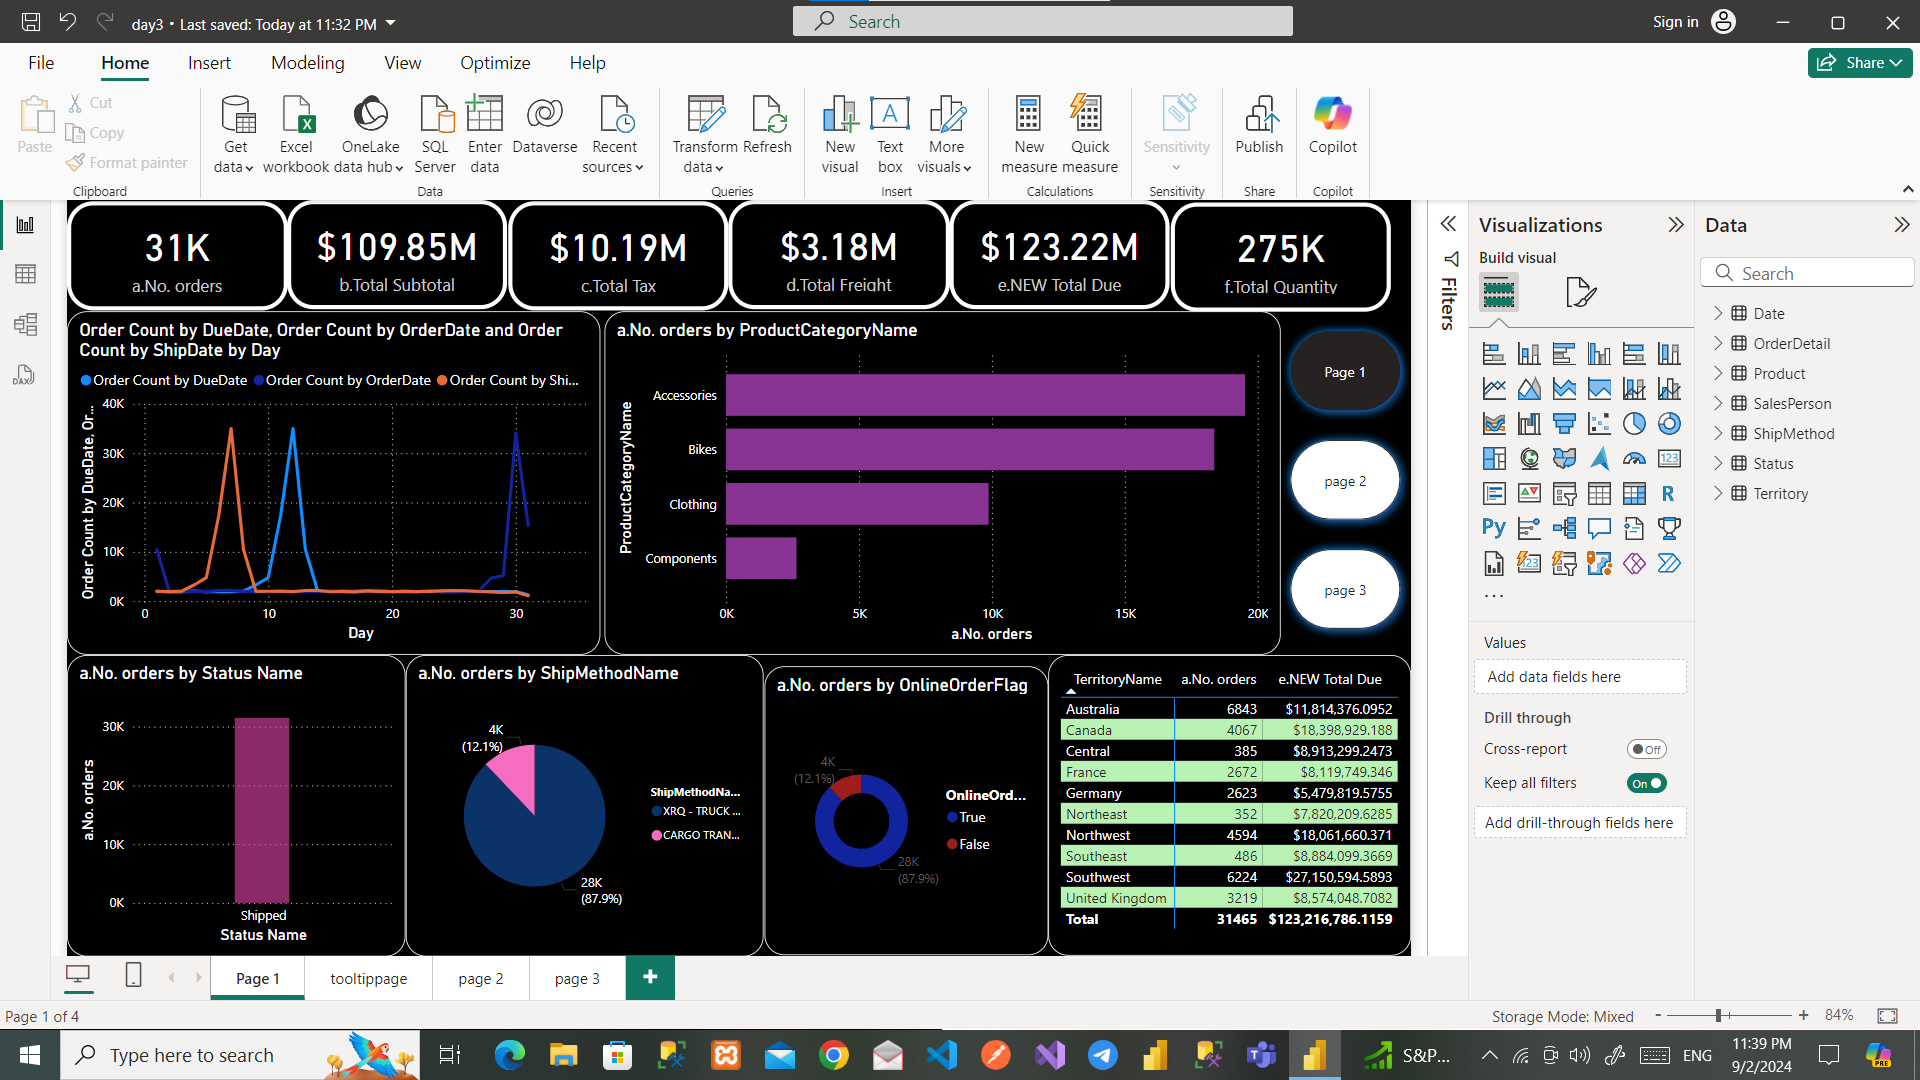

This screenshot's page, from the dashboard's own definition file:
{"tool":"powerbi","page":{"name":"Page 1","canvas":[1280,720],"ordinal":0},"visuals":[{"type":"card","fields":{"Values":["OrderDetail.a.No. orders"]},"box":[-0.4,1,210,104],"z":0},{"type":"card","fields":{"Values":["OrderDetail.b.Total Subtotal"]},"box":[209.9,0,209.9,104],"z":1000},{"type":"card","fields":{"Values":["OrderDetail.c.Total Tax"]},"box":[419.8,1.2,209.9,104],"z":2000},{"type":"card","fields":{"Values":["OrderDetail.d.Total Freight"]},"box":[629.8,0,211.1,104],"z":3000},{"type":"card","fields":{"Values":["OrderDetail.e.NEW Total Due"]},"box":[840.9,0,209.9,104],"z":4000},{"type":"card","fields":{"Values":["OrderDetail.f.Total Quantity"]},"box":[1050.8,2.4,209.9,104],"z":5000},{"type":"lineChart","fields":{"Category":["Date.Date.Variation.Date Hierarchy.Year","Date.Date.Variation.Date Hierarchy.Quarter","Date.Date.Variation.Date Hierarchy.Month","Date.Date.Variation.Date Hierarchy.Day"],"Y":["OrderDetail.Order Count by DueDate","OrderDetail.Order Count by OrderDate","OrderDetail.Order Count by ShipDate"]},"box":[0,106,508.3,327.4],"z":6000},{"type":"columnChart","fields":{"Category":["Status.Status Name"],"Y":["OrderDetail.a.No. orders"]},"box":[0,433.3,322.6,286.9],"z":7000},{"type":"pieChart","fields":{"Category":["ShipMethod.ShipMethodName"],"Y":["OrderDetail.a.No. orders"]},"box":[322.6,433.3,340.5,286.9],"z":8000},{"type":"clusteredBarChart","fields":{"Category":["Product.ProductName Hierarchy.ProductName","Product.ProductName Hierarchy.ProductSubcategoryName","Product.ProductName Hierarchy.ProductCategoryName"],"Y":["OrderDetail.a.No. orders"]},"box":[511.9,106,644.1,327.4],"z":9000},{"type":"donutChart","fields":{"Category":["OrderDetail.OnlineOrderFlag"],"Y":["OrderDetail.a.No. orders"]},"box":[664.2,444,270.7,275.5],"z":10000},{"type":"pivotTable","fields":{"Rows":["Territory.TerritoryName"],"Values":["OrderDetail.a.No. orders","OrderDetail.e.NEW Total Due"]},"box":[934.9,433.2,345.3,286.4],"z":11000},{"type":"pageNavigator","box":[1156,115.5,123.8,304.8],"z":12000}]}

Visuals, with their boxes on the page's 1280x720 design canvas (x1, y1, x2, y2). These are canvas units, not pixel positions in the 1920x1080 screenshot, which may show the page scaled, cropped or inside an application window:
card - OrderDetail.a.No. orders: <region>0, 1, 210, 105</region>
card - OrderDetail.b.Total Subtotal: <region>210, 0, 420, 104</region>
card - OrderDetail.c.Total Tax: <region>420, 1, 630, 105</region>
card - OrderDetail.d.Total Freight: <region>630, 0, 841, 104</region>
card - OrderDetail.e.NEW Total Due: <region>841, 0, 1051, 104</region>
card - OrderDetail.f.Total Quantity: <region>1051, 2, 1261, 106</region>
lineChart - Date.Date.Variation.Date Hierarchy.Year x Date.Date.Variation.Date Hierarchy.Quarter: <region>0, 106, 508, 433</region>
columnChart - Status.Status Name x OrderDetail.a.No. orders: <region>0, 433, 323, 720</region>
pieChart - ShipMethod.ShipMethodName x OrderDetail.a.No. orders: <region>323, 433, 663, 720</region>
clusteredBarChart - Product.ProductName Hierarchy.ProductName x Product.ProductName Hierarchy.ProductSubcategoryName: <region>512, 106, 1156, 433</region>
donutChart - OrderDetail.OnlineOrderFlag x OrderDetail.a.No. orders: <region>664, 444, 935, 720</region>
pivotTable - Territory.TerritoryName x OrderDetail.a.No. orders: <region>935, 433, 1280, 720</region>
pageNavigator: <region>1156, 116, 1280, 420</region>
